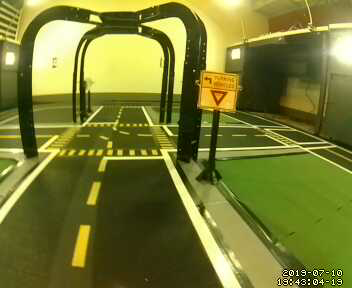Turn Yield: (198, 70, 240, 115)
